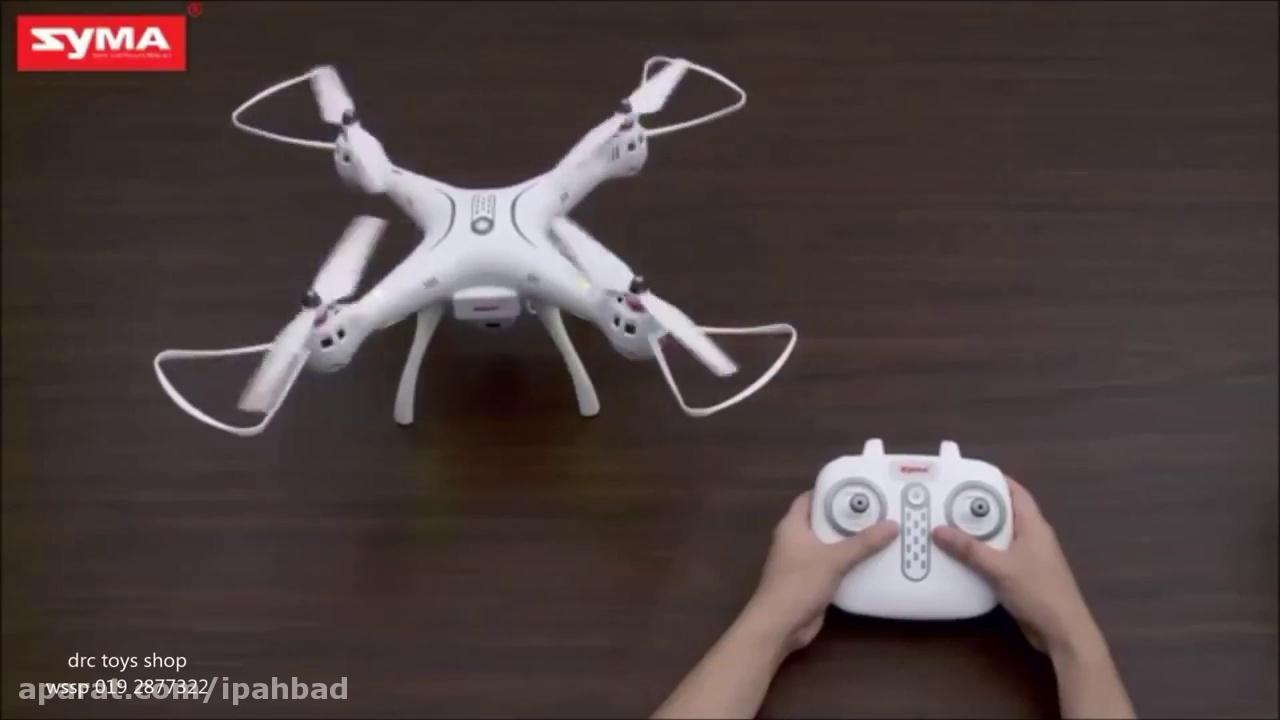drone: (150, 46, 801, 439)
